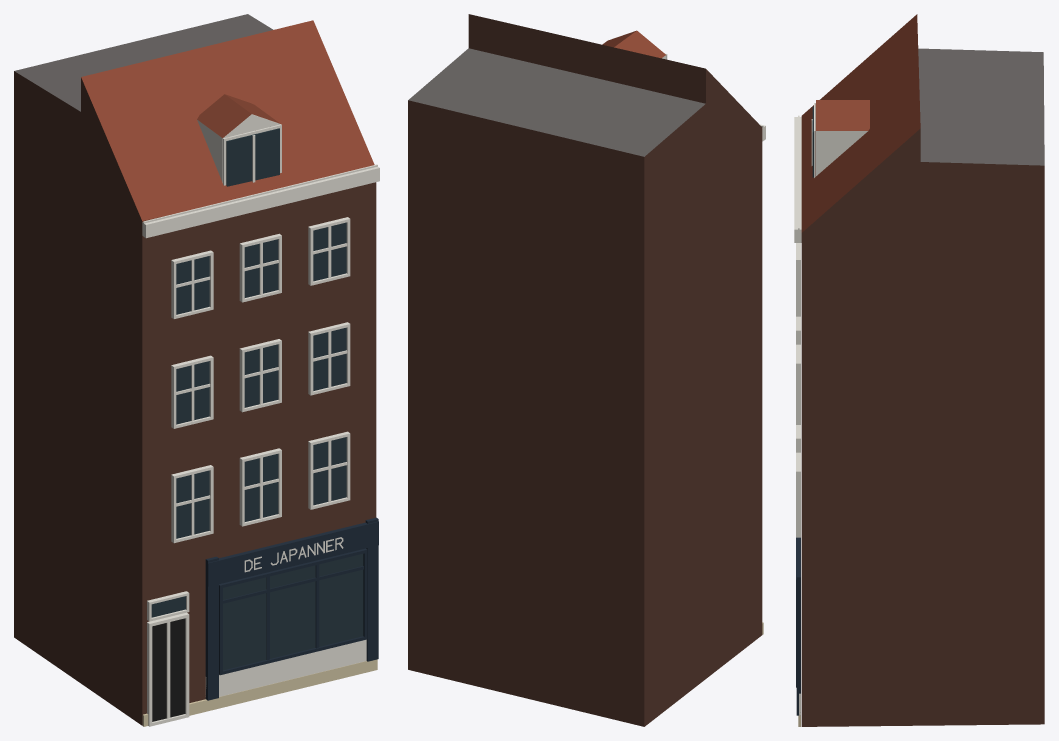
The model's file is recipe-bilder-152363.glb.
3 views of the same model, side by side, from view 1: azimuth 30°, elevation 25°; view 2: azimuth 150°, elevation 25°; view 3: azimuth 270°, elevation 25° (orthographic).
Parts seen in each view (by area): view 1: bilder-152363; view 2: bilder-152363; view 3: bilder-152363.
Part boxes in pixels (x1,y1,x2,y2): bilder-152363: (14, 14, 379, 726); bilder-152363: (408, 14, 765, 726); bilder-152363: (794, 14, 1044, 726).
Size of the model in its own units: 6.58 by 15.92 by 6.03.
